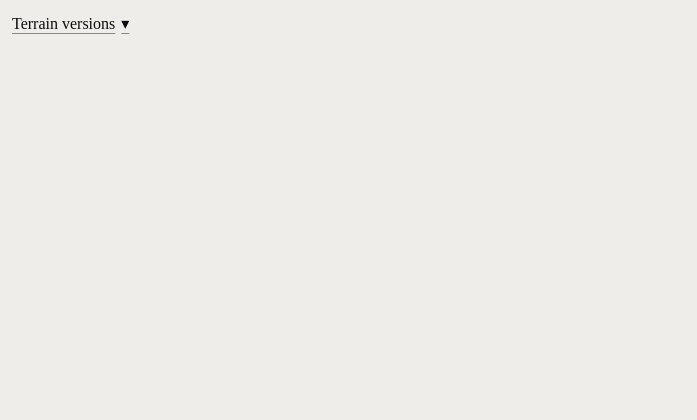
Test: VersionsFold › stays two words until opened, then says how often the answer stands and each result’s range
Click the button "Terrain versions ▾" at (71, 24), box [12,4,129,44]
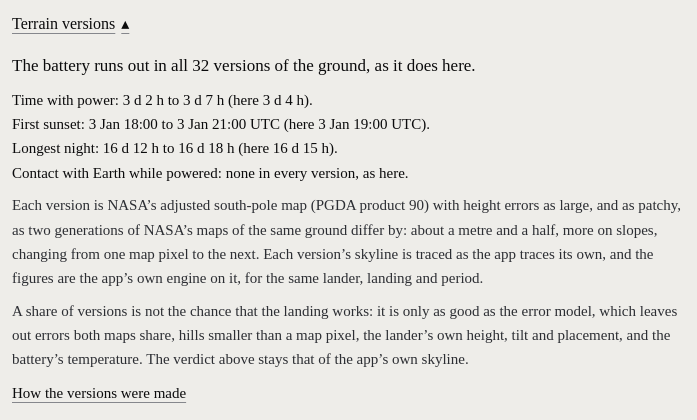
Check: the text "The battery runs out in all 32 versions of the ground, as it does here." is shown, box [12,56,476,75]
Check: the number of list items is 4, box [12,92,313,108]; [12,116,430,132]; [12,140,338,156]; [12,165,408,181]
Check: the text "not the chance that the landing works" is shown, box [12,303,677,367]
